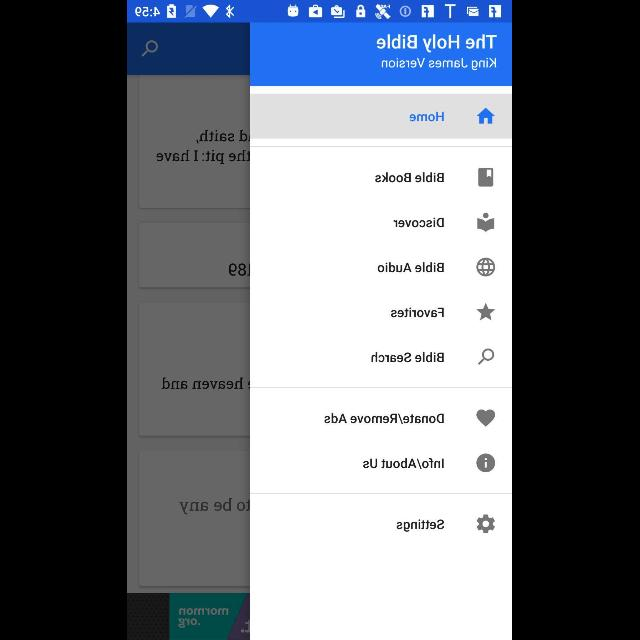icon: (476, 514, 496, 534), (476, 453, 496, 472), (476, 409, 496, 427), (476, 303, 496, 321), (477, 213, 495, 233), (478, 348, 496, 366), (476, 108, 496, 124), (478, 168, 494, 186)
image: (476, 258, 496, 276)
panel: (252, 22, 512, 640)
text: (377, 34, 499, 54), (382, 58, 498, 70), (325, 414, 445, 424), (364, 457, 444, 469), (376, 171, 444, 183), (378, 261, 444, 273), (372, 352, 444, 362), (397, 518, 445, 532), (391, 308, 445, 318), (394, 218, 444, 228), (410, 111, 444, 122)
uppertaskbar: (128, 1, 512, 23)
